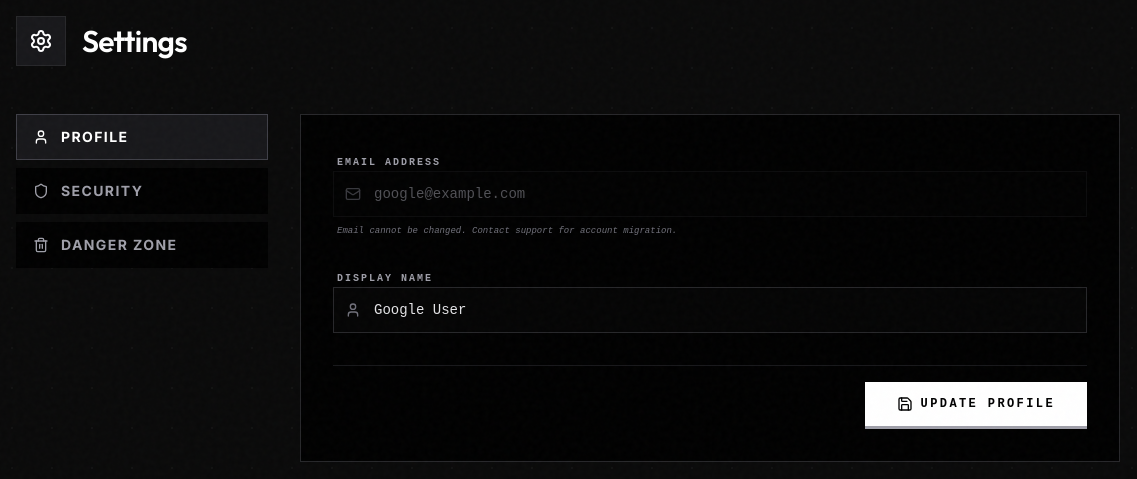
it: SettingsPage › should hide password form and show OAuth message for social users
Click the button "Security". click: (142, 191)
box: [16,168,268,214]
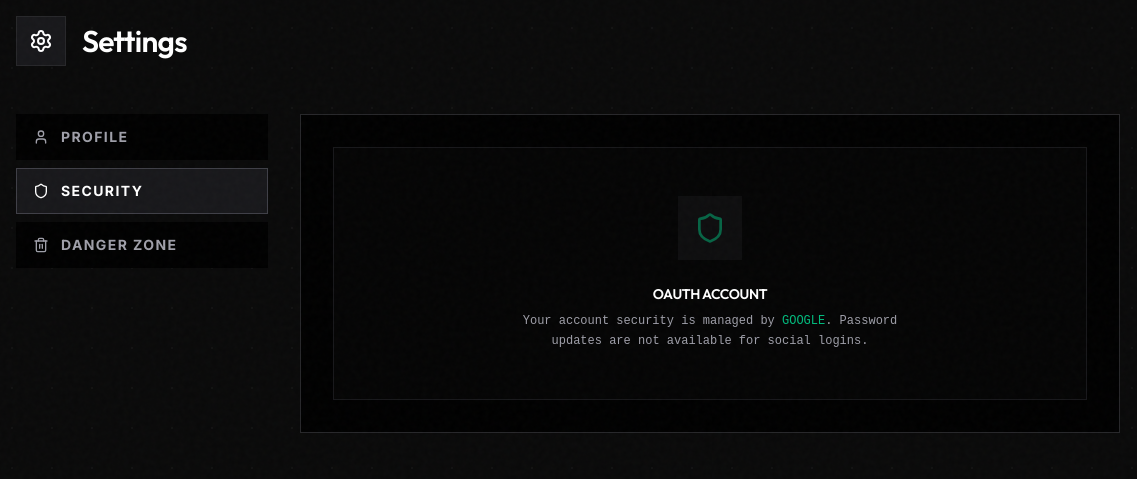
Expected: the heading "OAuth Account" is shown, [653,285,767,303]
Expected: the text "Your account security is managed by" is shown, [523,314,782,328]
Expected: the text "google" is shown, [782,314,825,328]
